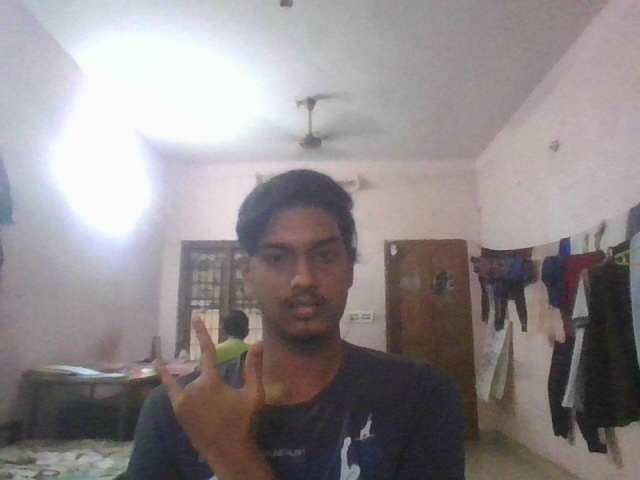iloveyou: (148, 314, 273, 458)
